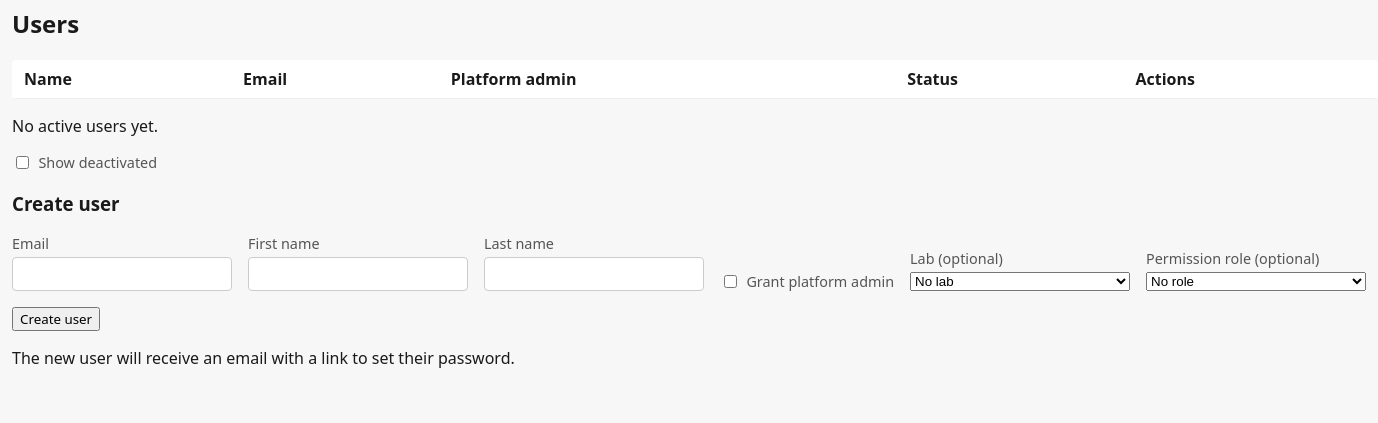
Scenario: AdminUsers create form › shows an actionable notice when the invite email fails to send
Expected: the text "No active users yet." is shown, [12,115,158,137]
Type "no-email@example.edu" into the field labelled "Email".
click(122, 274); type("no-email@example.edu")  # box [12,257,232,291]
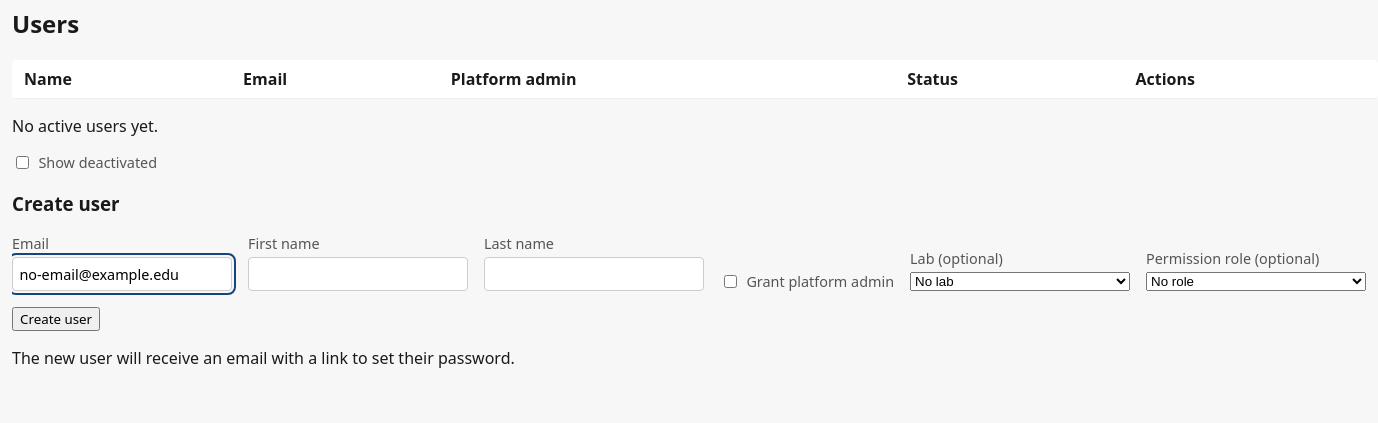
Type "No" into the field labelled "First name".
click(358, 274); type("No")  # box [248,257,468,291]
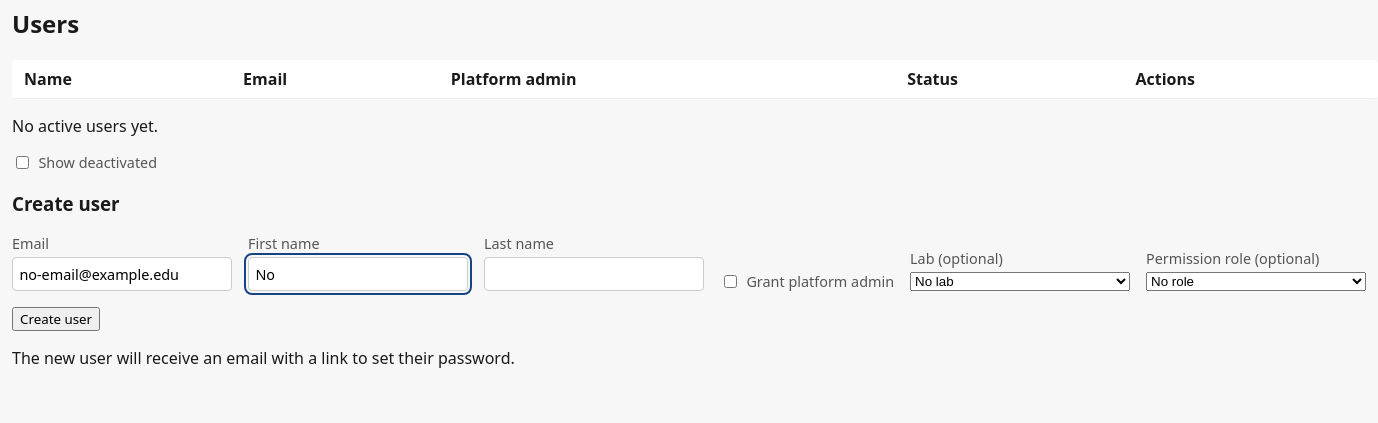
Type "Email" into the field labelled "Last name".
click(594, 274); type("Email")  # box [484,257,704,291]
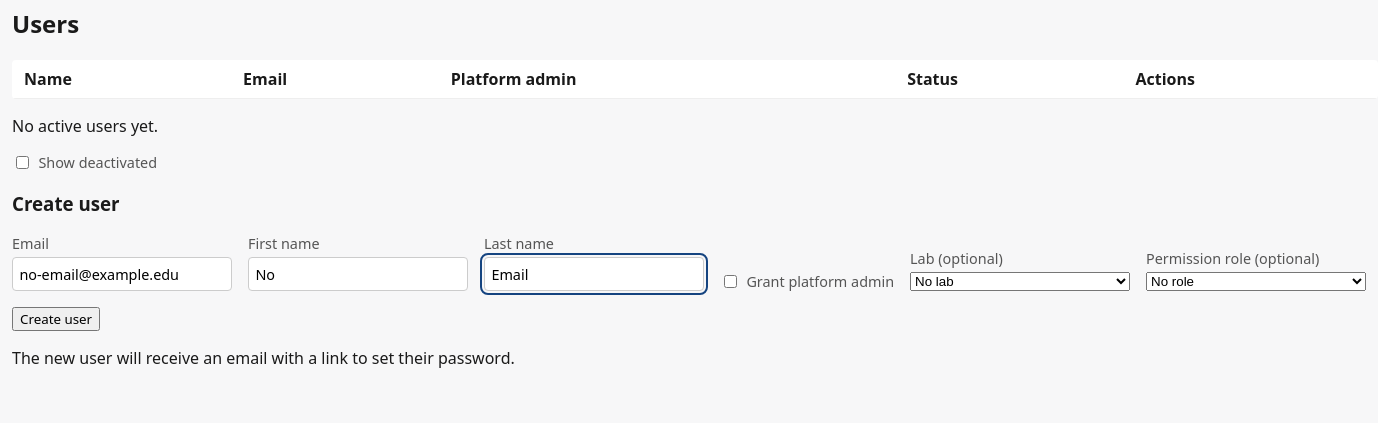
Click the button "Create user".
click(56, 319)  # box [12,307,100,331]
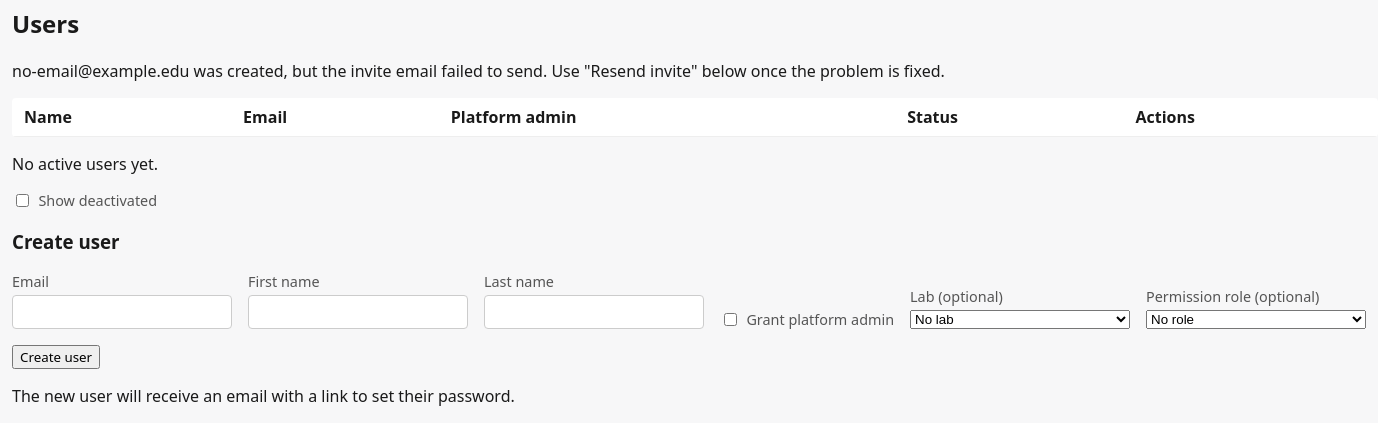
Now the message shows "no-email@example.edu was created, but the invite email failed to send", box [12,60,945,82]
